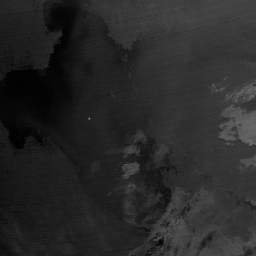Target: (87, 116, 91, 120)
